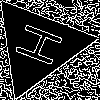H: (13, 21, 74, 72)
